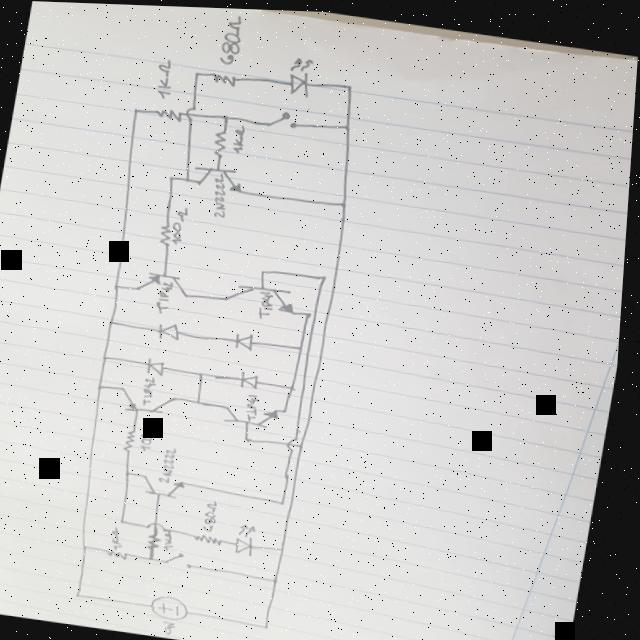crossover: (152, 518, 176, 528), (185, 103, 199, 118), (291, 433, 304, 449)
diode: (282, 51, 317, 96), (239, 518, 267, 557), (158, 317, 187, 341), (236, 327, 261, 350), (243, 366, 268, 389), (149, 354, 173, 375)
junction: (321, 267, 333, 281), (79, 589, 93, 598), (340, 196, 352, 206), (268, 618, 280, 628), (191, 66, 203, 75), (343, 78, 355, 87), (247, 431, 259, 440), (283, 541, 295, 550), (129, 466, 139, 476), (124, 514, 134, 524), (222, 110, 233, 119), (116, 278, 125, 288), (152, 552, 163, 560), (276, 573, 287, 581), (132, 103, 141, 112), (284, 494, 293, 503), (344, 119, 354, 127), (100, 381, 110, 389), (186, 173, 194, 182), (170, 171, 178, 180), (201, 367, 210, 375), (104, 351, 114, 358), (262, 265, 271, 272), (300, 341, 309, 348), (198, 396, 207, 403), (292, 381, 301, 388), (308, 307, 316, 314), (112, 317, 120, 323), (303, 439, 311, 445), (88, 542, 96, 548)
resistor: (209, 126, 232, 155), (210, 68, 240, 86), (159, 219, 178, 245), (153, 105, 188, 119), (197, 530, 231, 544), (125, 426, 143, 452), (150, 529, 172, 550), (111, 546, 138, 559)
source: (154, 590, 200, 619)
switch: (265, 104, 304, 129), (171, 547, 204, 567)
text: (215, 10, 246, 63), (209, 168, 236, 219), (156, 277, 180, 315), (154, 56, 176, 97), (162, 442, 185, 481), (174, 202, 194, 244), (261, 286, 281, 318), (145, 373, 164, 405), (208, 496, 226, 529), (230, 121, 249, 152), (144, 419, 163, 450), (248, 391, 266, 419), (114, 524, 133, 549), (169, 616, 187, 634), (170, 530, 183, 549)
transistor: (226, 275, 304, 311), (122, 381, 183, 416), (190, 159, 251, 193), (137, 267, 198, 297), (226, 397, 286, 427), (145, 470, 196, 498)
